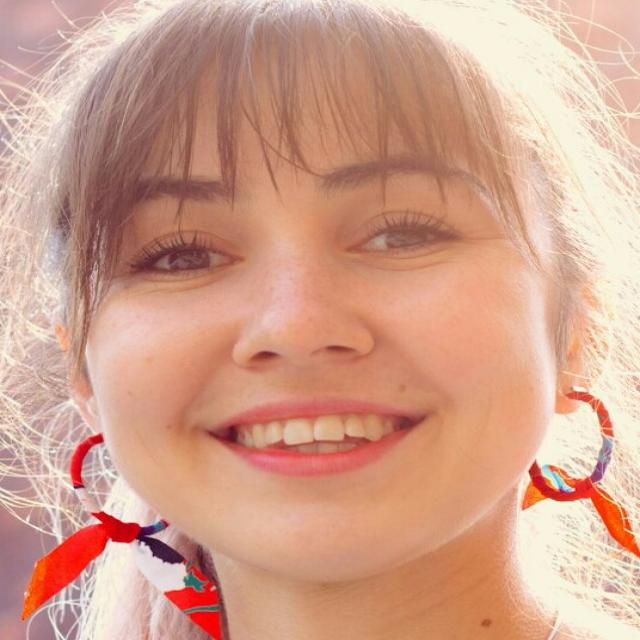front: (99, 185, 542, 504)
